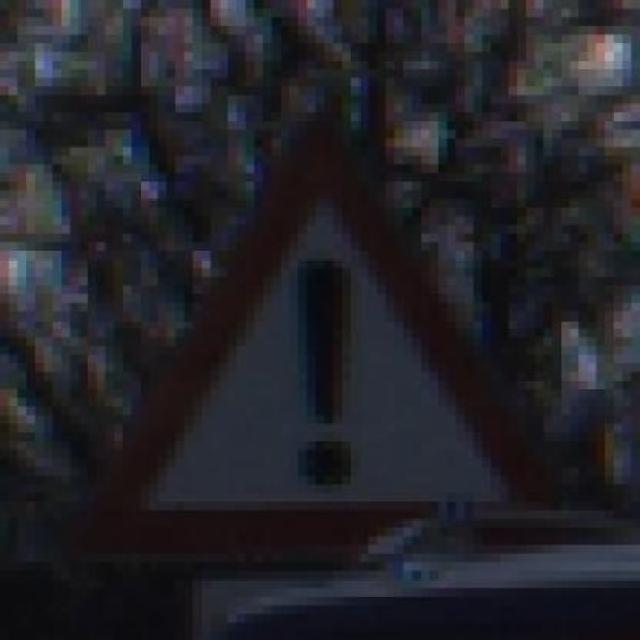Attention Please-: (70, 95, 570, 579)
